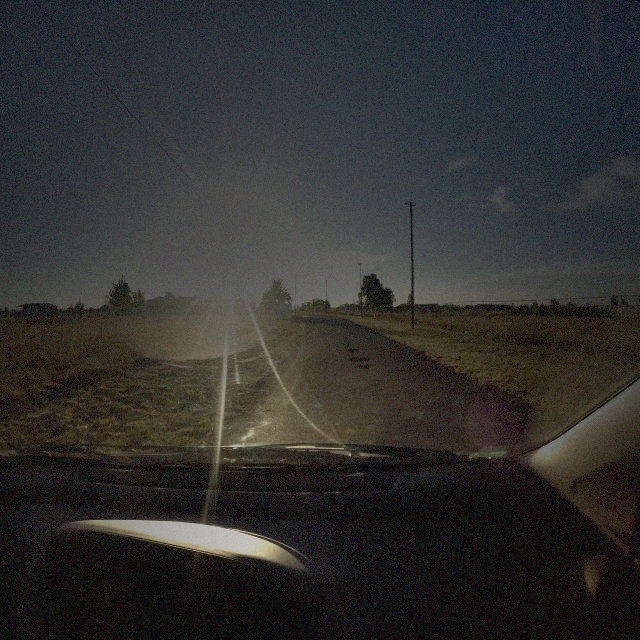pothole: (349, 356, 372, 363), (357, 362, 370, 370), (347, 346, 360, 354)
